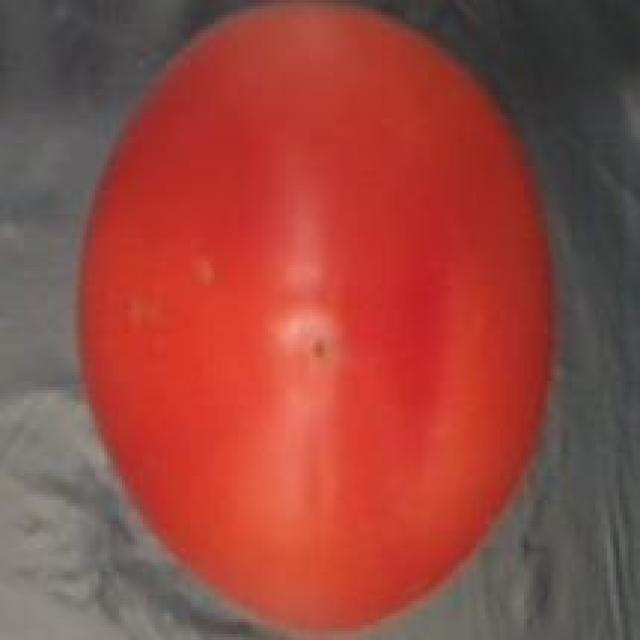ripe tomato: (62, 6, 568, 640)
